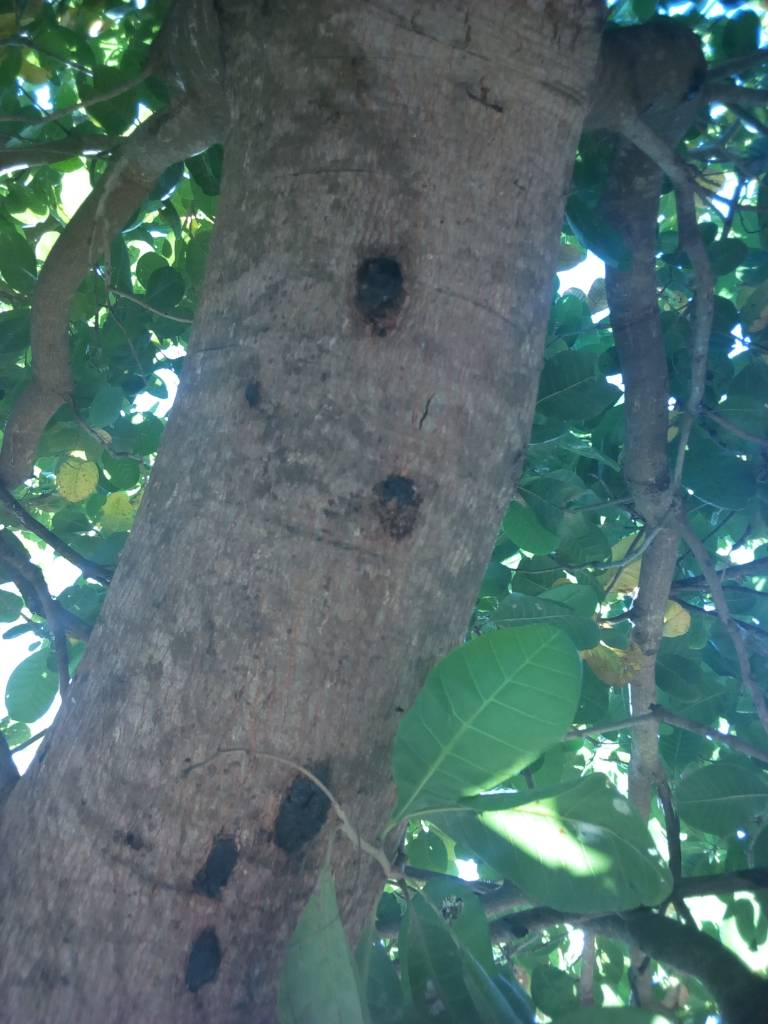Apate terebrans: (336, 242, 441, 352)
